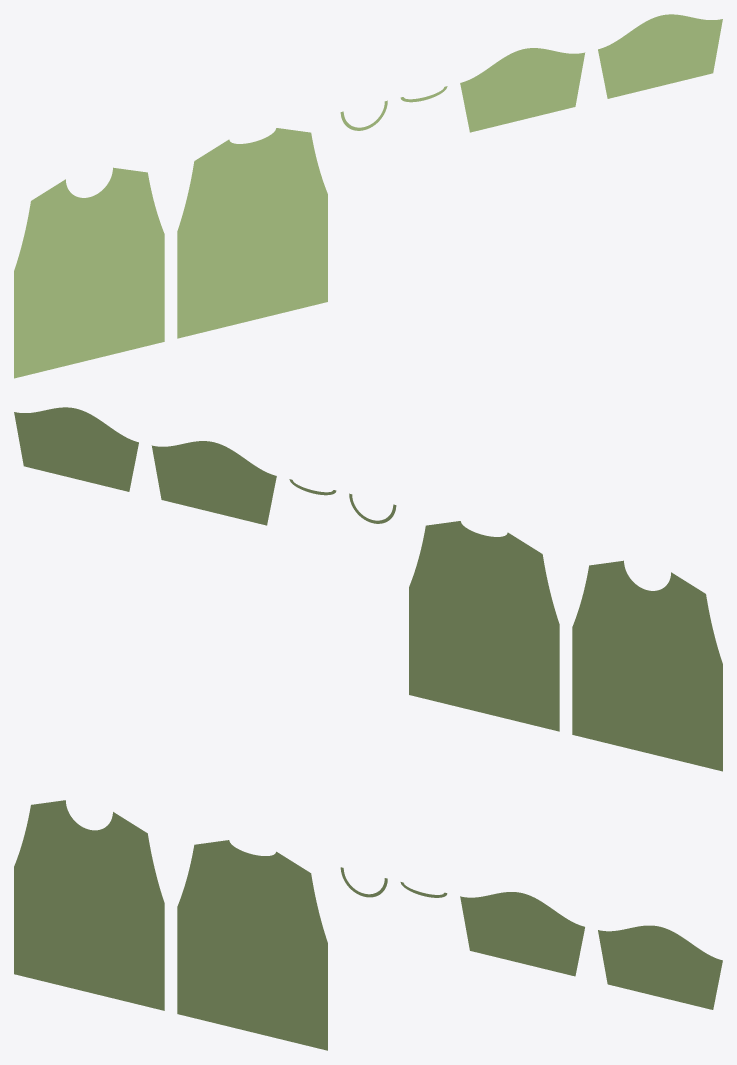
Rendered from camiseta-deportiva-malla-regular-talla-XL.glb.
The picture shows the model from 3 angles, top to bottom: view 1: azimuth 30°, elevation 25°; view 2: azimuth 150°, elevation 25°; view 3: azimuth 330°, elevation 25°; orthographic projection.
Parts seen in each view (by area): view 1: patron-espalda, patron-delantero, patron-manga-izq, patron-manga-der; view 2: patron-espalda, patron-delantero, patron-manga-izq, patron-manga-der; view 3: patron-espalda, patron-delantero, patron-manga-izq, patron-manga-der.
Part boxes in pixels (left/top/right/bottom): patron-espalda: left=177, top=128, right=327, bottom=338; patron-delantero: left=14, top=167, right=164, bottom=378; patron-manga-izq: left=460, top=48, right=585, bottom=132; patron-manga-der: left=598, top=14, right=722, bottom=98; patron-espalda: left=409, top=521, right=559, bottom=731; patron-delantero: left=572, top=560, right=722, bottom=771; patron-manga-izq: left=151, top=441, right=276, bottom=525; patron-manga-der: left=14, top=407, right=138, bottom=491; patron-espalda: left=177, top=840, right=327, bottom=1050; patron-delantero: left=14, top=800, right=164, bottom=1010; patron-manga-izq: left=460, top=892, right=584, bottom=976; patron-manga-der: left=598, top=925, right=722, bottom=1009.
Size of the model in its own units: 2.82 by 0.78 by 0.
